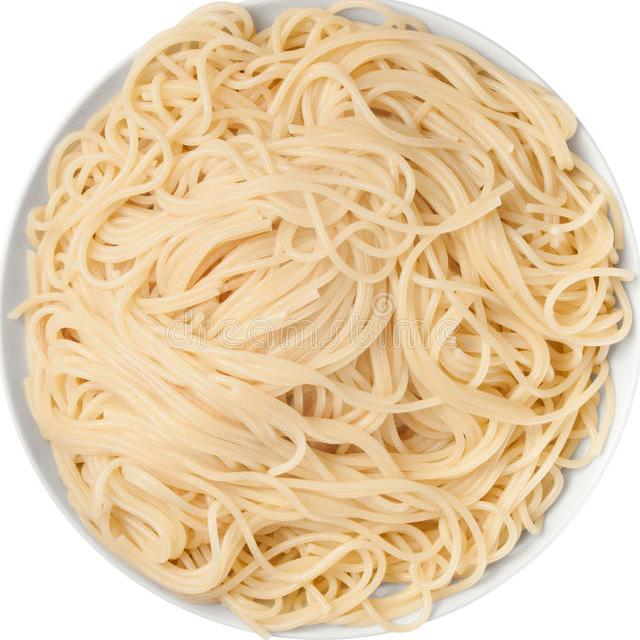noodles: (4, 0, 638, 639)
